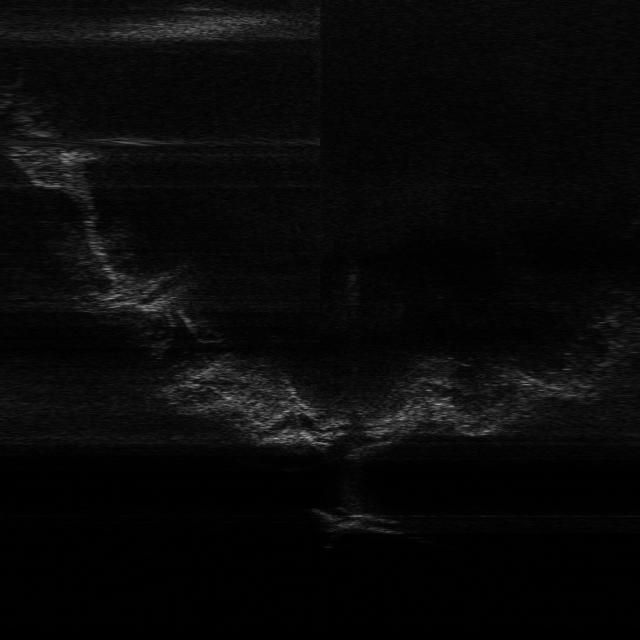plane: (308, 506, 403, 536)
